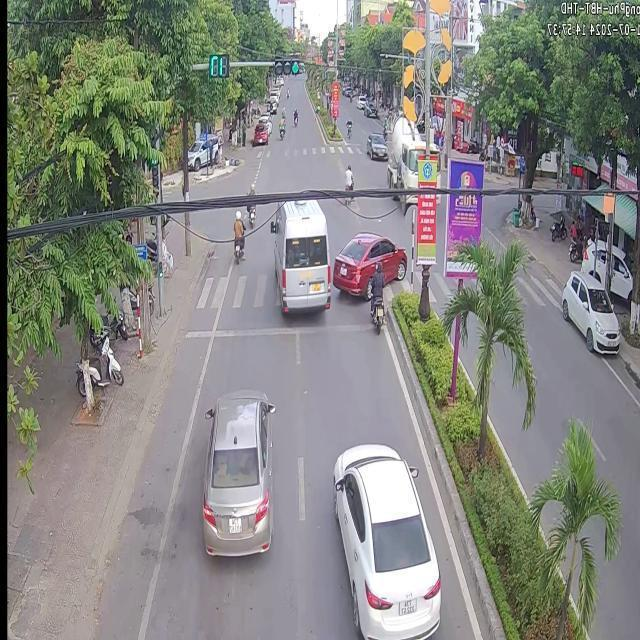car: (333, 442, 438, 636), (200, 389, 273, 554), (269, 198, 329, 311), (330, 231, 406, 298), (386, 111, 423, 187), (364, 129, 386, 158), (398, 194, 416, 211)
green_light: (272, 56, 298, 74), (149, 160, 157, 185), (149, 134, 158, 147)
motobike: (368, 260, 383, 314), (232, 209, 244, 260), (343, 162, 352, 189), (343, 196, 351, 202)
stop_line: (185, 322, 369, 337)
